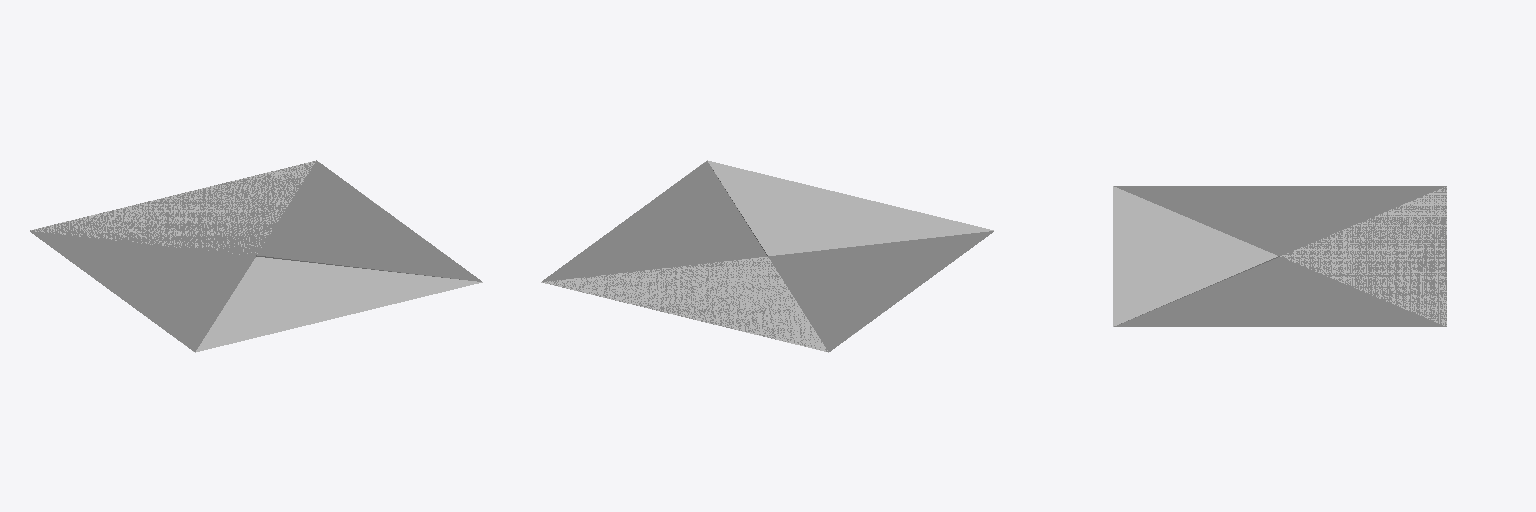
Rendered from frame7.obj.
3 views of the same model, side by side, from view 1: azimuth 30°, elevation 25°; view 2: azimuth 150°, elevation 25°; view 3: azimuth 270°, elevation 25° (orthographic).
Parts seen in each view (by area): view 1: Cube, ground; view 2: Cube, ground; view 3: Cube, ground.
Part boxes in pixels (x1,y1,x2,y2): Cube: (30, 160, 481, 351); ground: (31, 161, 482, 352); Cube: (542, 161, 993, 351); ground: (541, 160, 993, 352); Cube: (1114, 186, 1446, 326); ground: (1113, 186, 1446, 326).
Size of the model in its own units: 2000 by 7 by 2000.